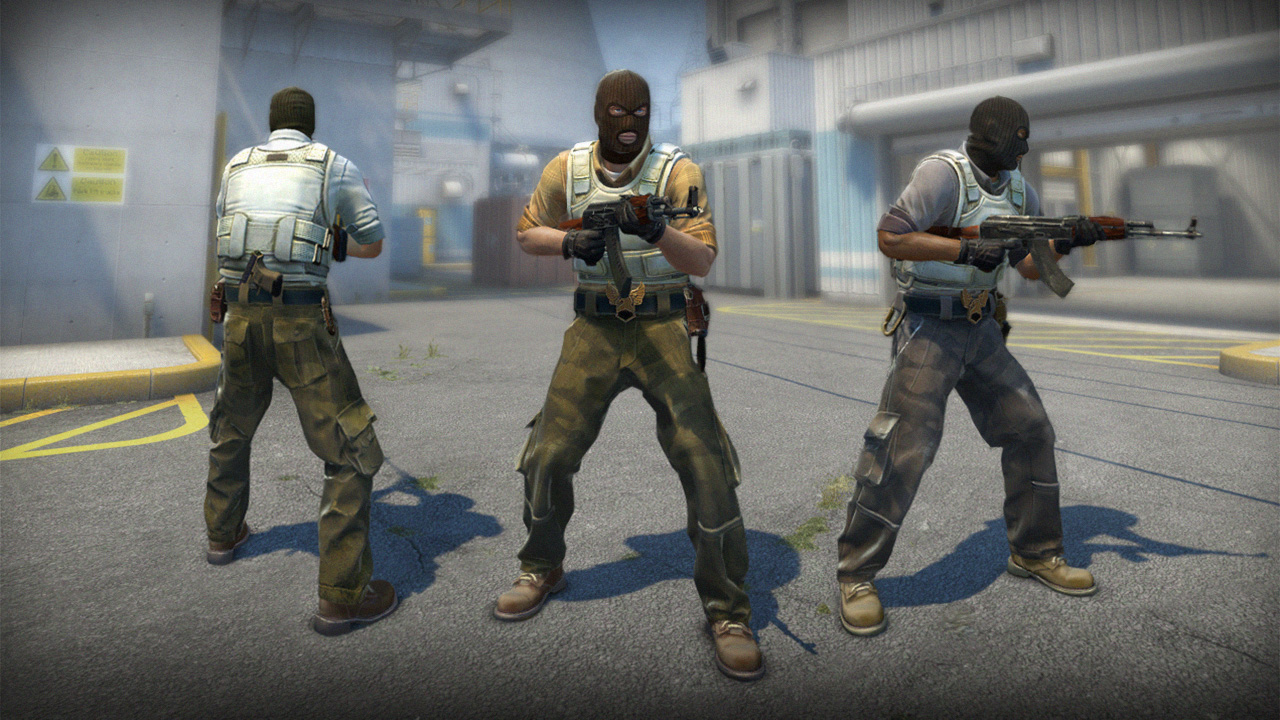t: (499, 63, 754, 685), (831, 95, 1069, 635), (204, 85, 390, 645)
th: (592, 63, 657, 164), (963, 91, 1033, 177), (264, 86, 321, 147)
